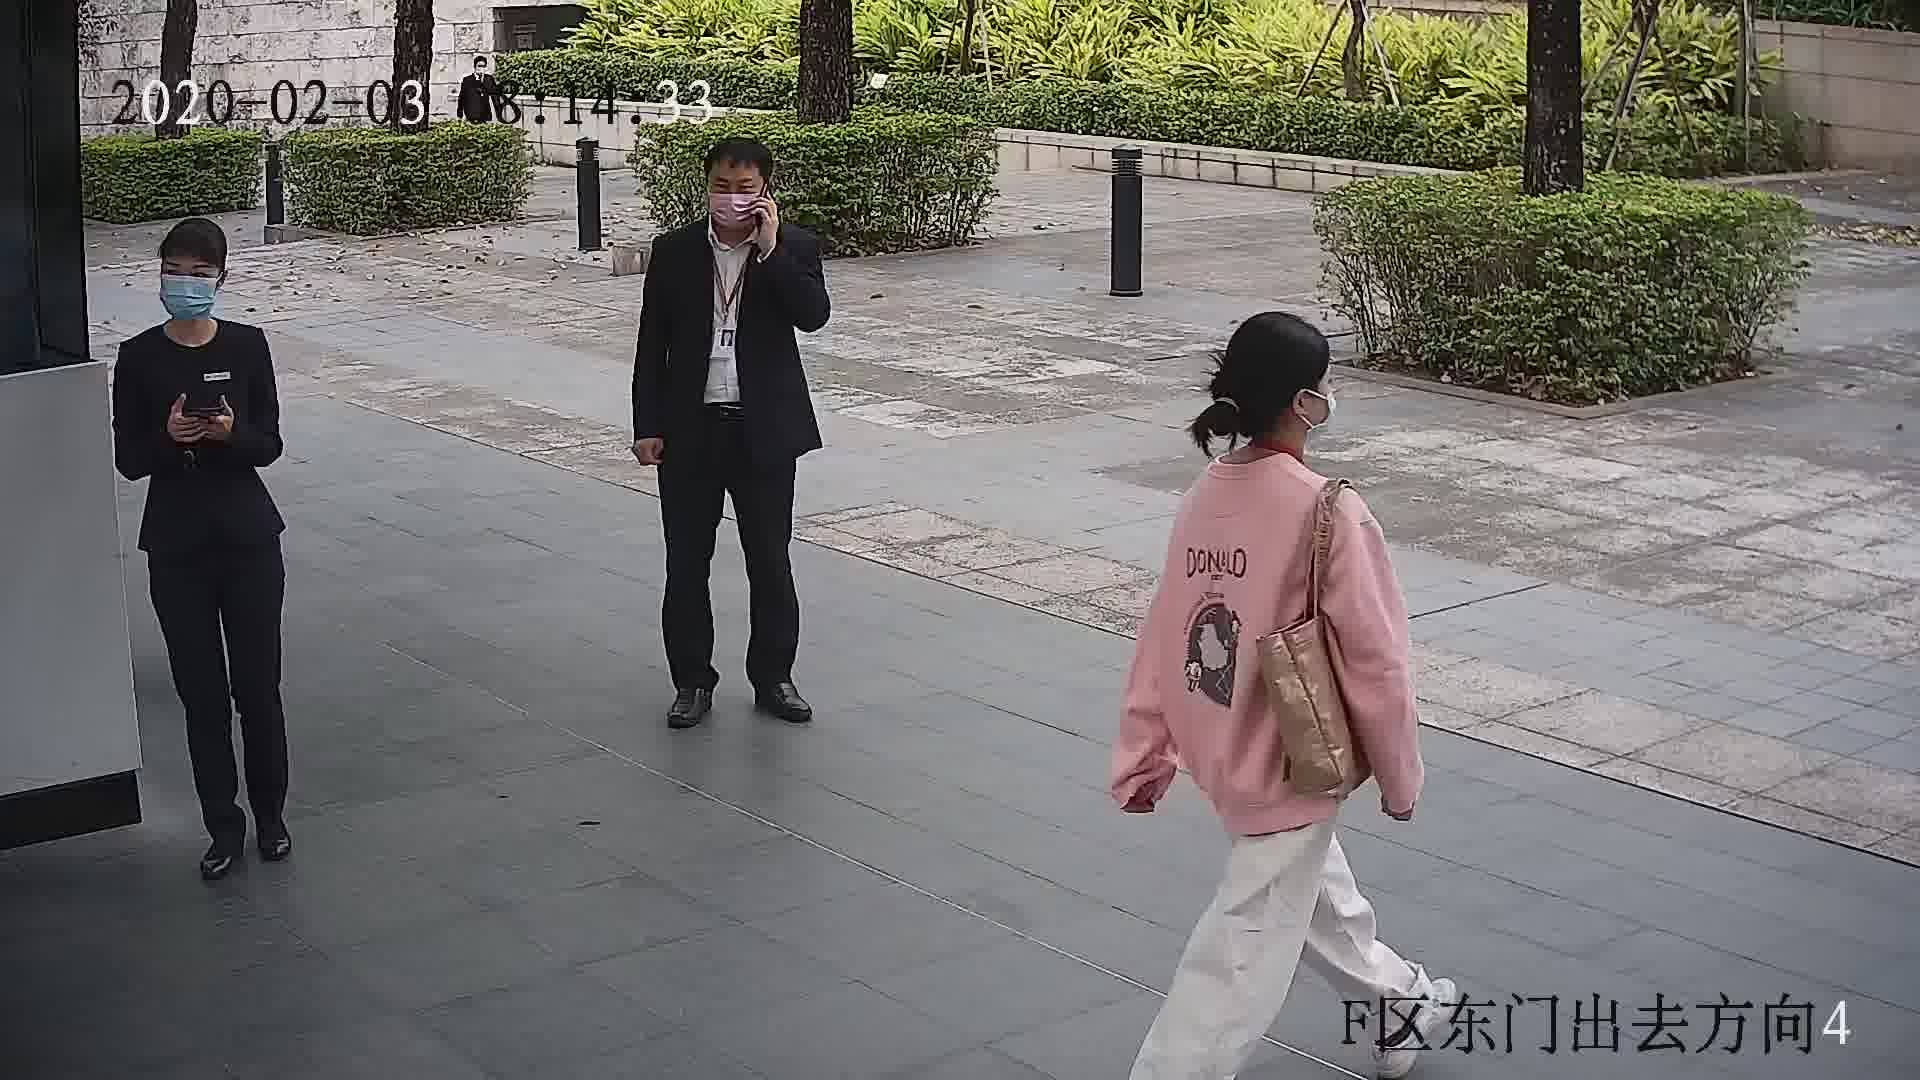face: (1280, 355, 1340, 448), (154, 250, 218, 321), (703, 175, 769, 241)
mask: (155, 270, 218, 320), (1296, 391, 1337, 444), (708, 188, 759, 229)
person: (1170, 309, 1372, 555), (649, 137, 822, 283), (119, 219, 270, 379), (459, 54, 510, 89)
